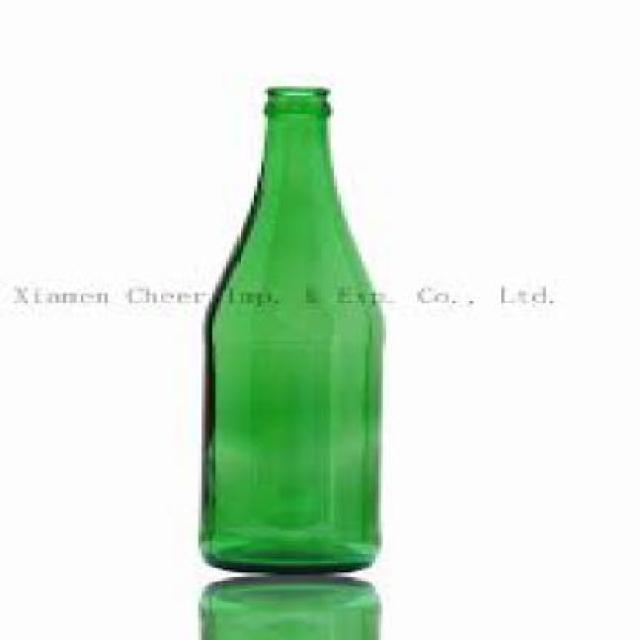kaca: (198, 85, 378, 572)
